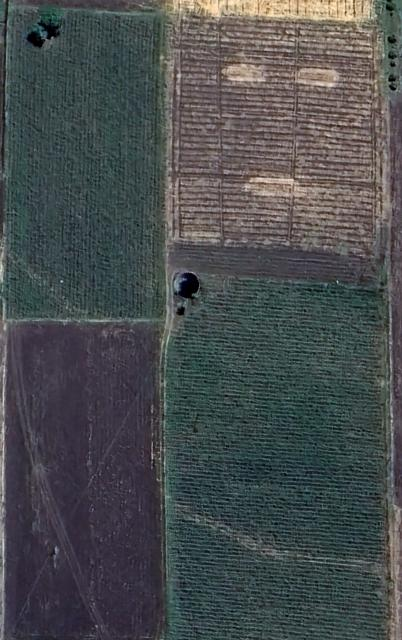Farms: (166, 283, 387, 639), (175, 12, 380, 281), (2, 321, 159, 640), (5, 12, 168, 319)
